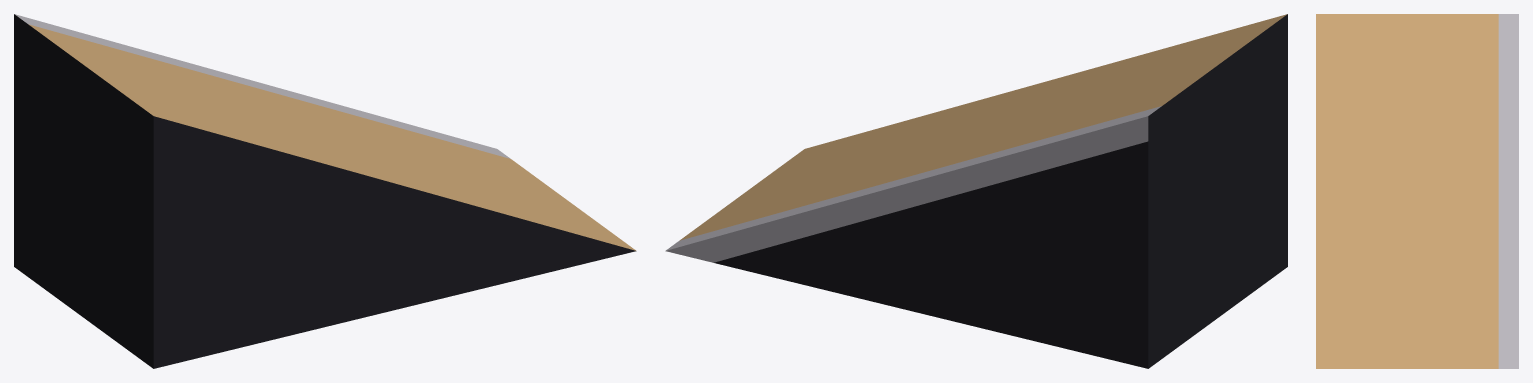
The model's file is Ramp_Half_5_Right.fbx.
3 views of the same model, side by side, from view 1: azimuth 30°, elevation 25°; view 2: azimuth 150°, elevation 25°; view 3: azimuth 270°, elevation 25° (orthographic). The views are drawn at different scales.
Parts seen in each view (by area): view 1: Ramp_Half_5_Right; view 2: Ramp_Half_5_Right; view 3: Ramp_Half_5_Right.
Part boxes in pixels (x1,y1,x2,y2): Ramp_Half_5_Right: [14, 14, 636, 368]; Ramp_Half_5_Right: [665, 14, 1287, 368]; Ramp_Half_5_Right: [1316, 14, 1518, 368].
Bounding box in the file's own units: 10 × 5 × 5.
